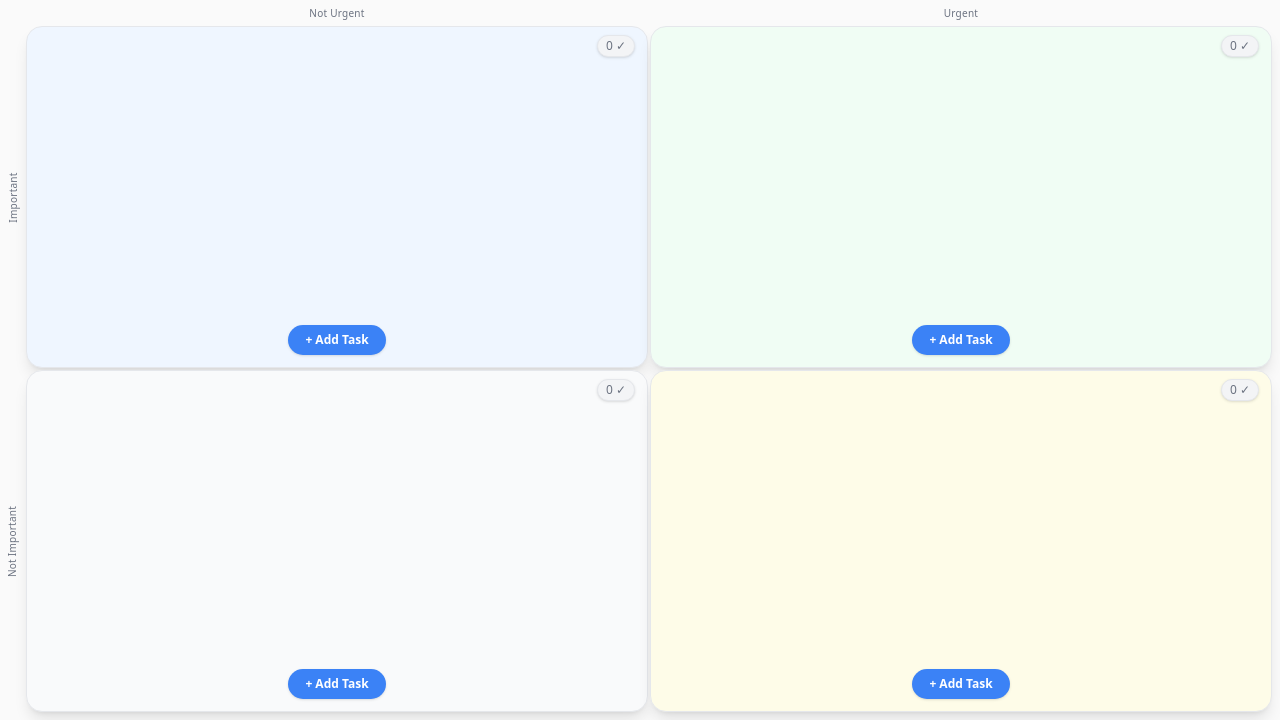
Test: EisenhowerMatrix interactions › adds a new task and displays it in the correct quadrant
The width and height of the screenshot is (1280, 720).
Click the 1st button "+ Add Task" at (337, 340), box [288, 325, 386, 355]
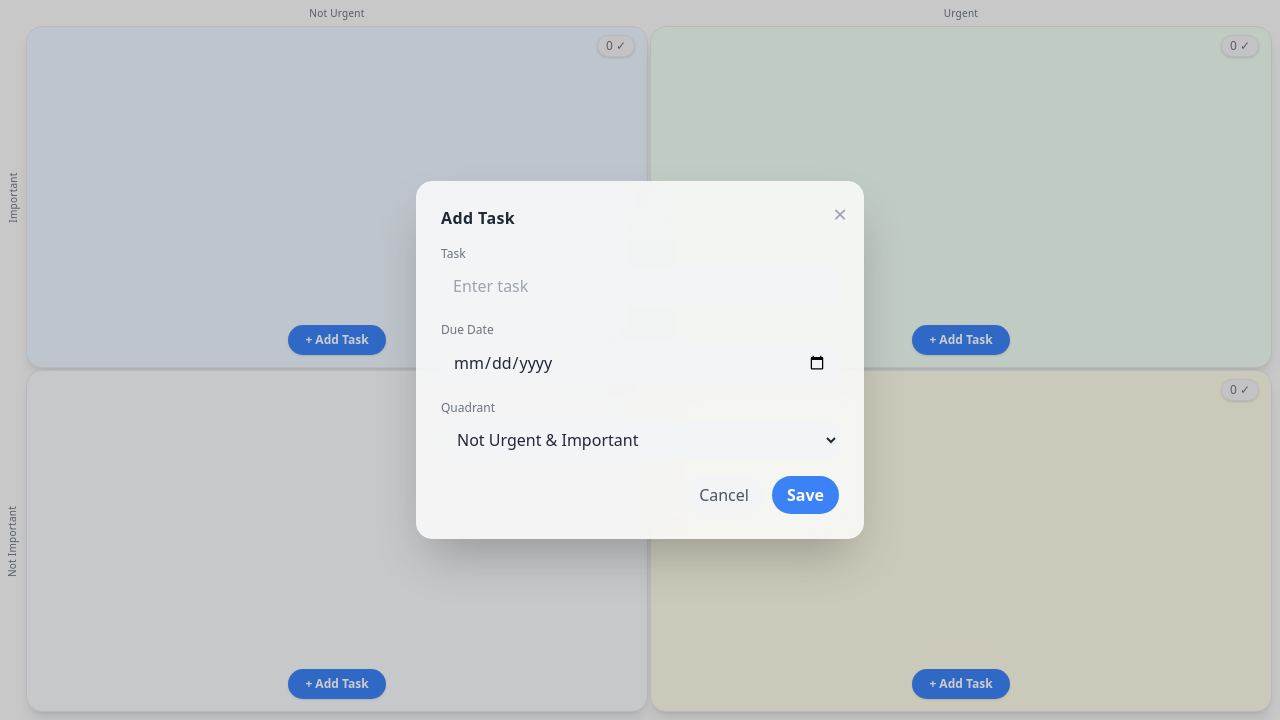
Type "New Task" into the field with placeholder "Enter task" at (640, 286), box [441, 266, 839, 306]
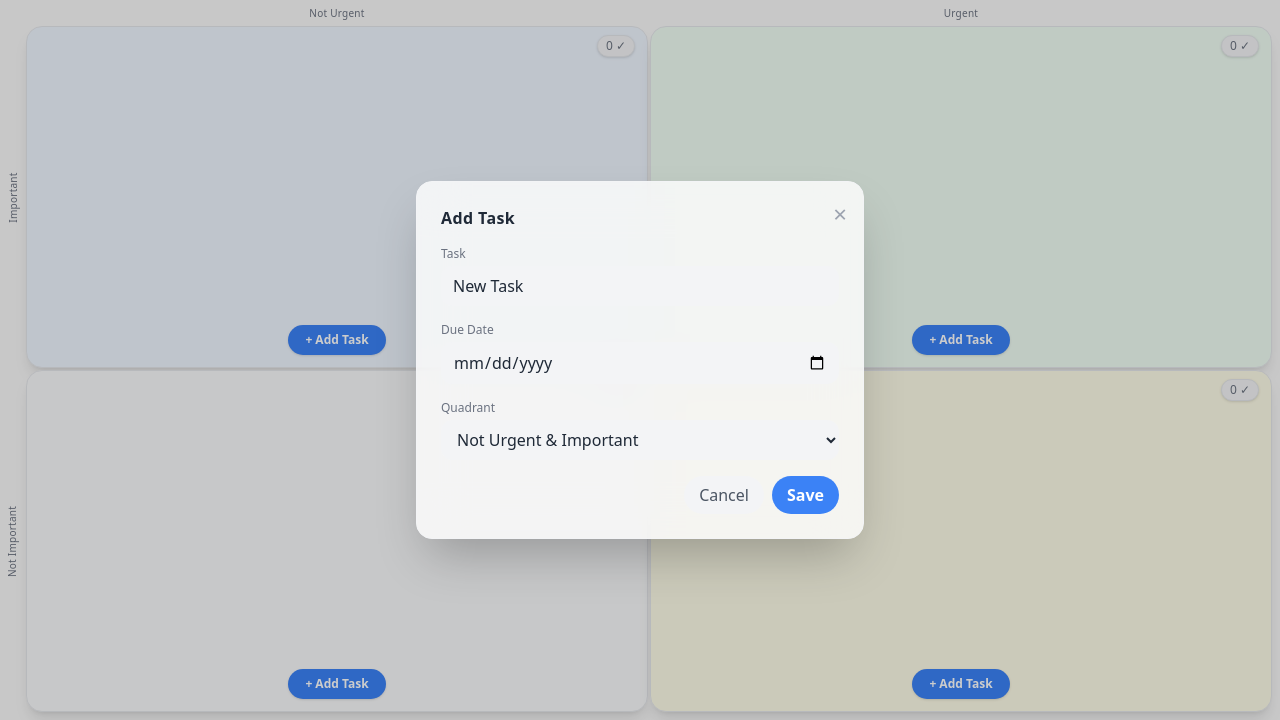
Click the button "Save" at (806, 495), box [772, 476, 839, 514]
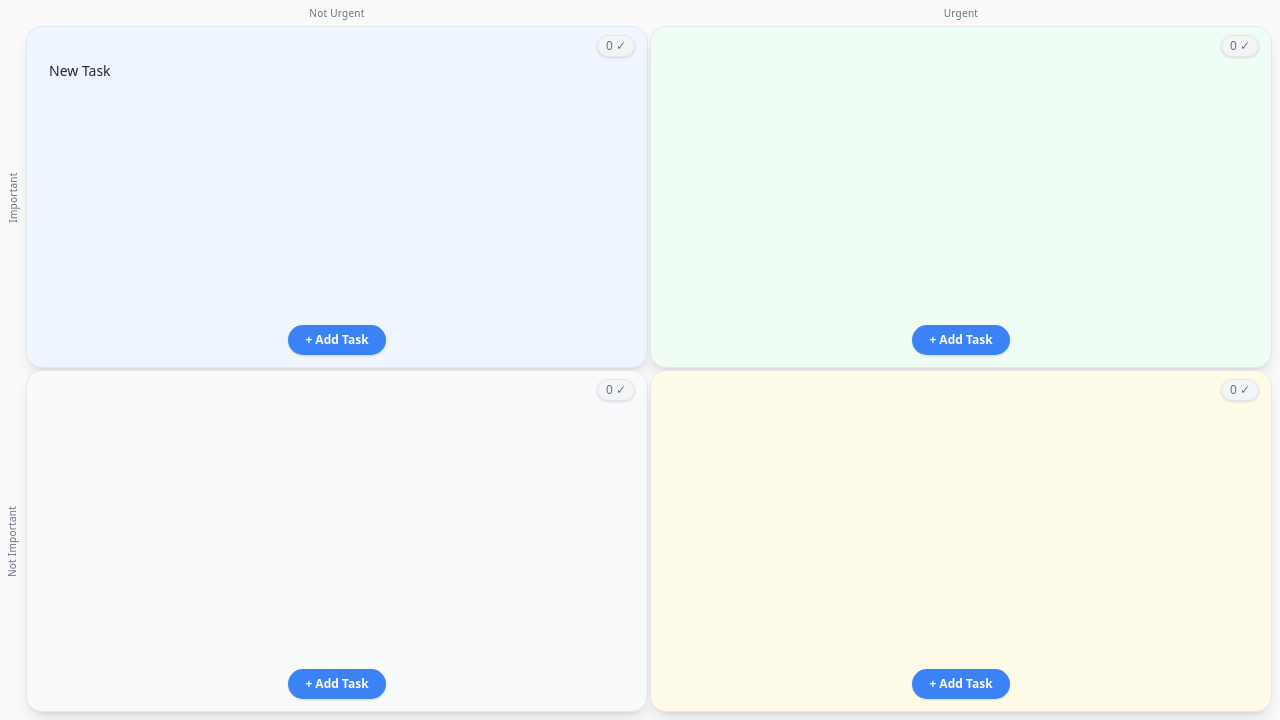
Expected: the text "New Task" is shown, [49, 61, 111, 80]
